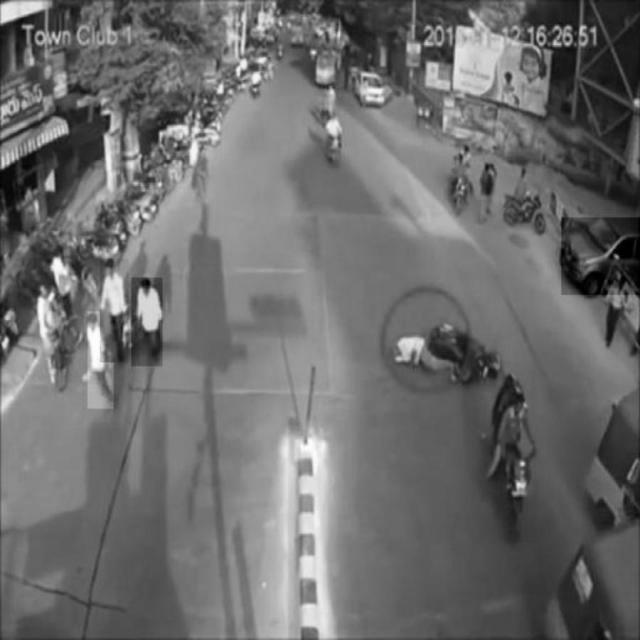person: (100, 260, 128, 363), (132, 278, 162, 366), (88, 312, 114, 410)
vehicle: (492, 371, 536, 543), (562, 218, 640, 295)
